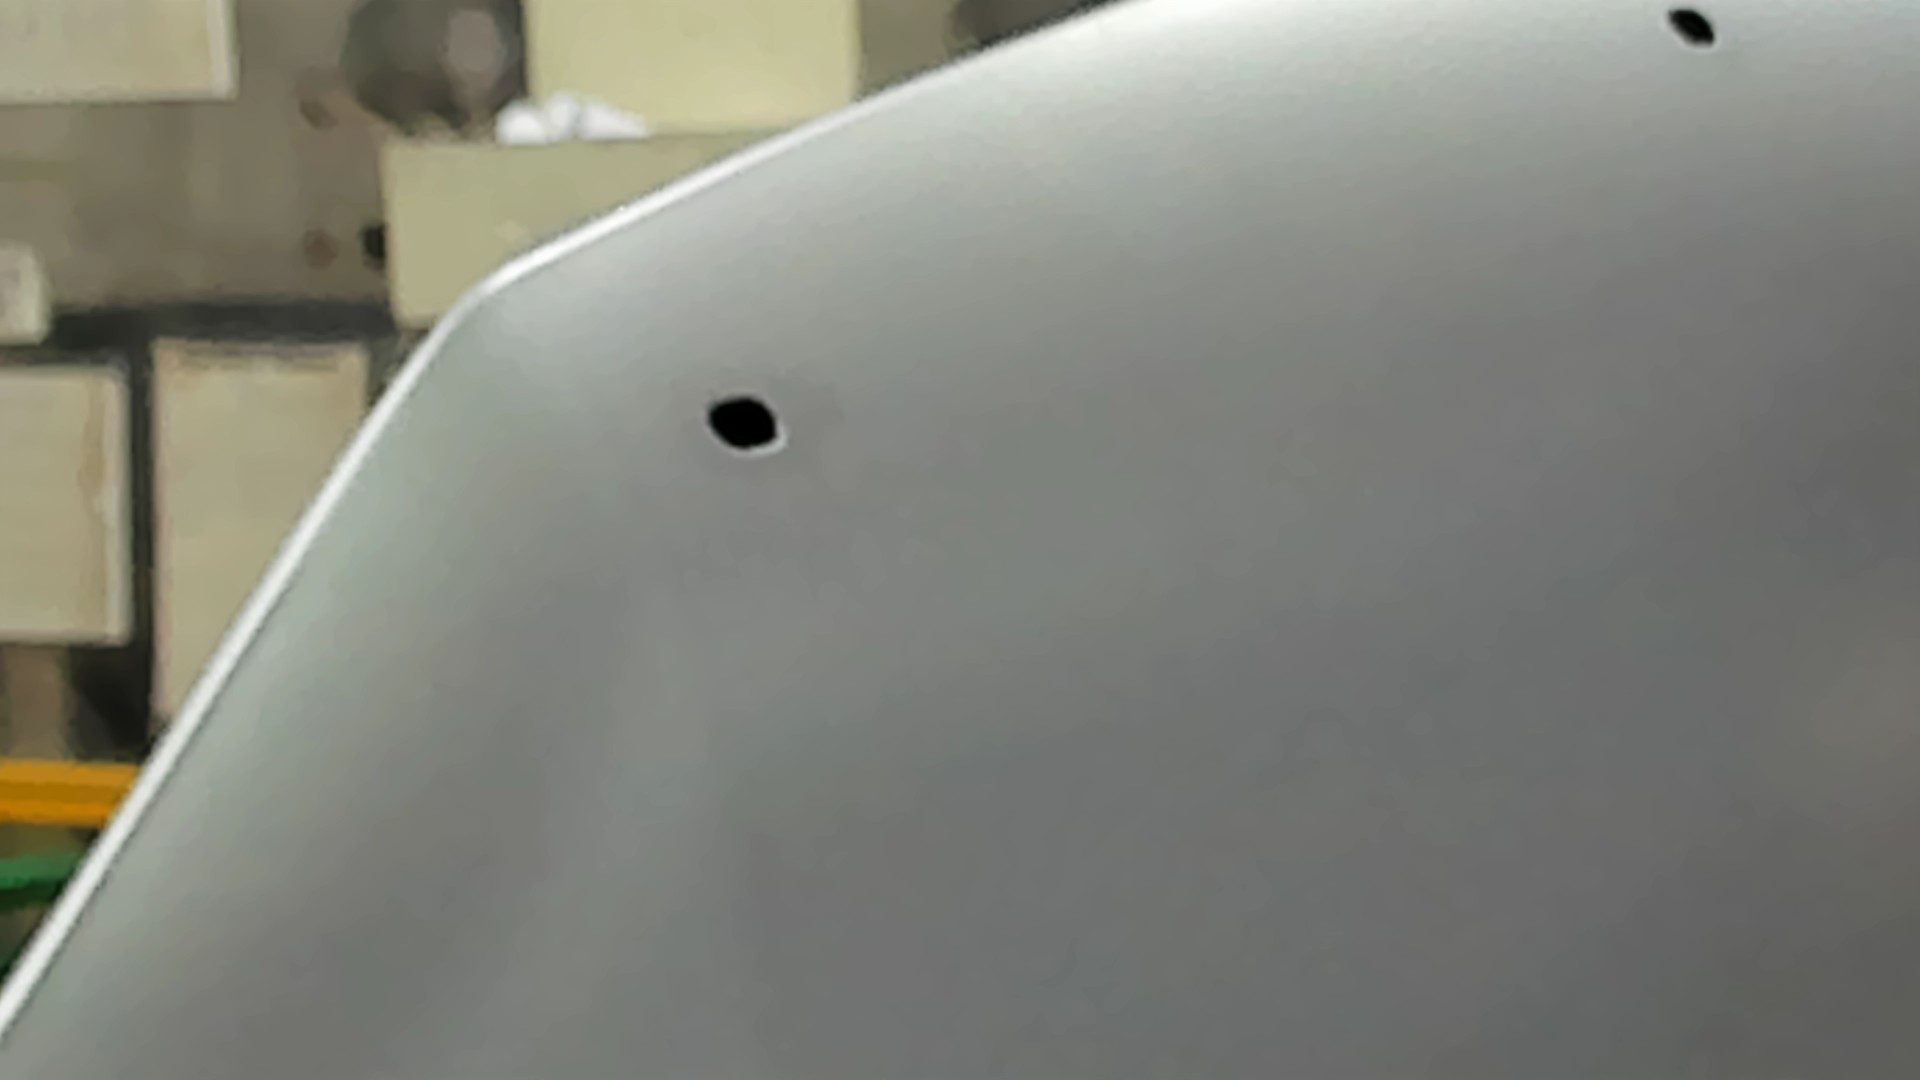amorfo: (700, 388, 787, 456), (1663, 1, 1724, 55)
capo: (949, 96, 1920, 1080)
